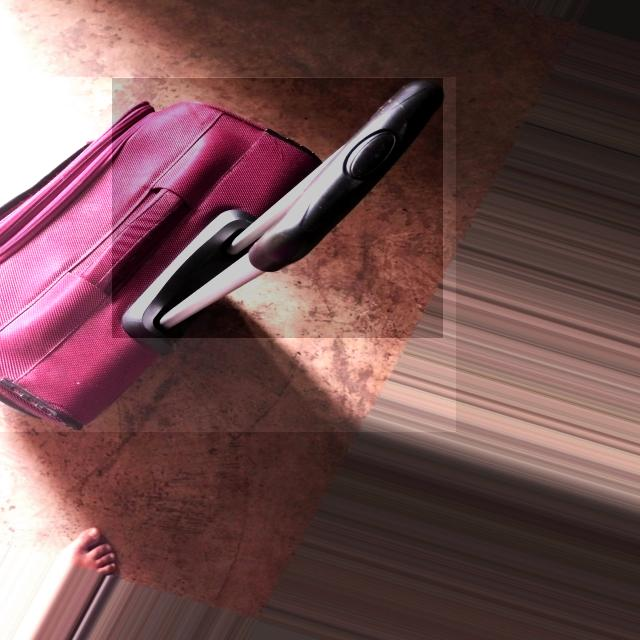Bag: (0, 71, 478, 434)
Handle: (117, 75, 444, 333)
